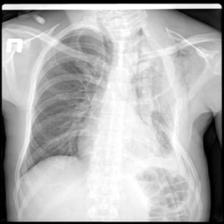tuberculosis: (15, 22, 197, 207)
